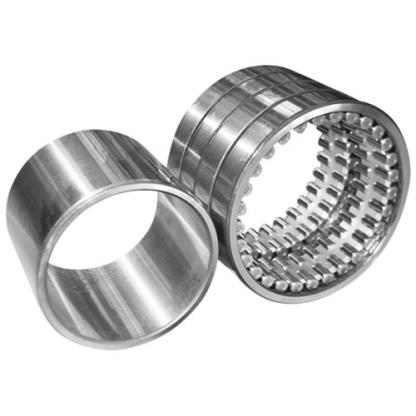FOD: (166, 59, 416, 306)
